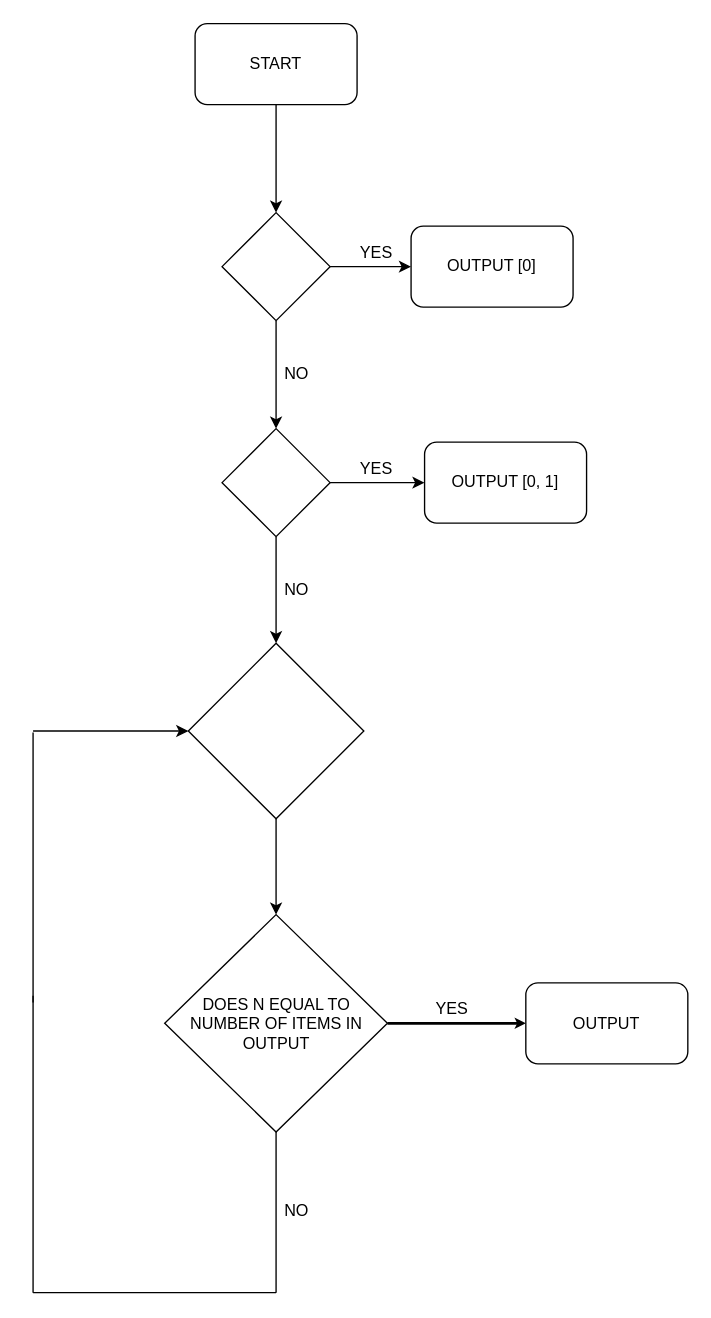
The diagram is 711 pixels wide and 1318 high, and some of its shapes have lost their labels. Each missing label, with the centre of its shape:
IS N=1?: (x=275, y=266)
IS N=2?: (x=275, y=482)
SUM LAST TWO VALUES: (x=275, y=730)
